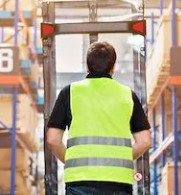worker: (64, 42, 134, 184)
